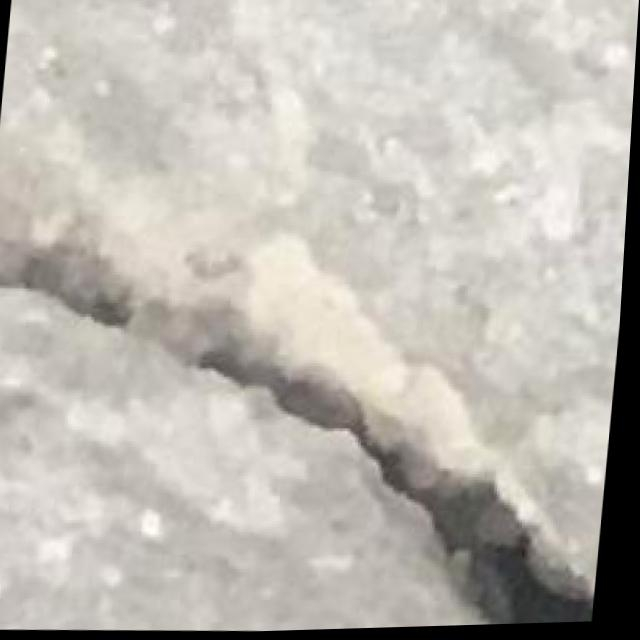Crack: (0, 165, 627, 640)
